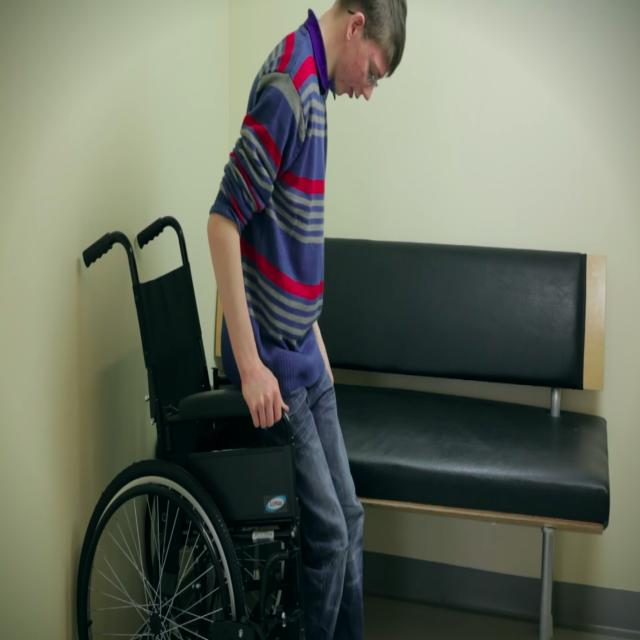wheelchairs: (73, 205, 305, 640)
